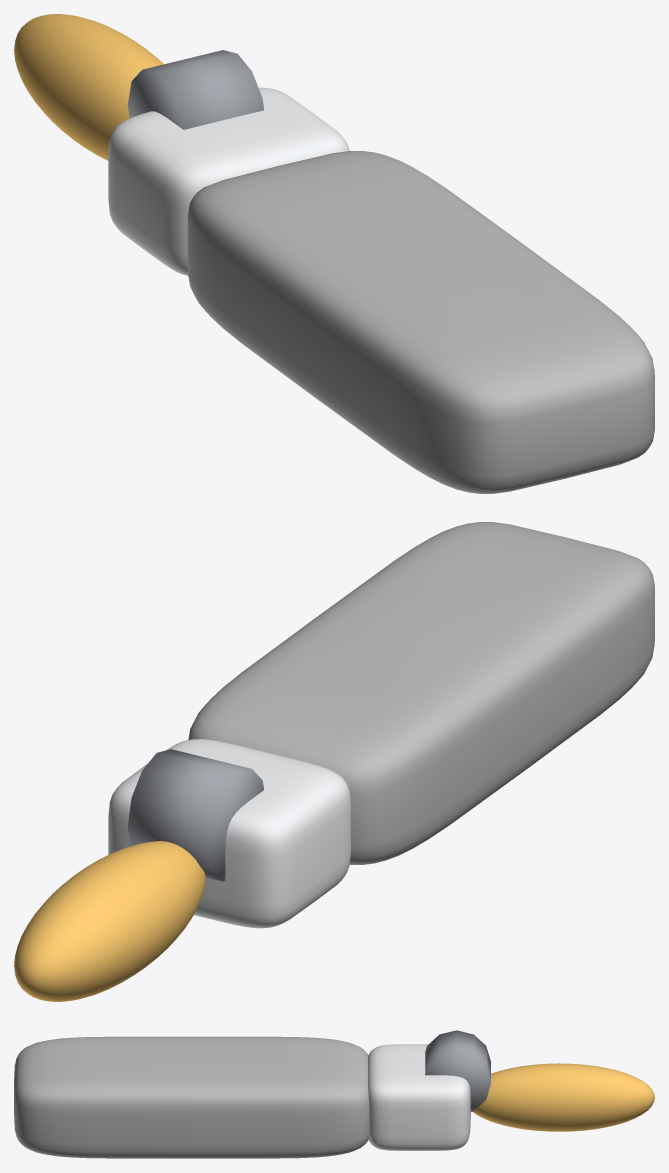
Rendered from lighter.glb.
The picture shows the model from 3 angles, top to bottom: view 1: azimuth 30°, elevation 25°; view 2: azimuth 150°, elevation 25°; view 3: azimuth 270°, elevation 25°; orthographic projection. The views are drawn at different scales.
Parts seen in each view (by area): view 1: Body, Hood, Flame, Wheel; view 2: Body, Hood, Flame, Wheel; view 3: Body, Flame, Hood, Wheel.
Part boxes in pixels (x1=…): Body: x1=187, y1=151, x2=654, y2=493; Hood: x1=108, y1=87, x2=349, y2=275; Flame: x1=14, y1=14, x2=163, y2=160; Wheel: x1=127, y1=50, x2=264, y2=129; Body: x1=188, y1=522, x2=654, y2=864; Hood: x1=108, y1=739, x2=350, y2=928; Flame: x1=14, y1=841, x2=205, y2=1001; Wheel: x1=127, y1=749, x2=264, y2=881; Body: x1=14, y1=1036, x2=369, y2=1158; Flame: x1=472, y1=1063, x2=654, y2=1131; Hood: x1=368, y1=1044, x2=470, y2=1150; Wheel: x1=425, y1=1030, x2=490, y2=1111.
Size of the model in its own units: 0.022 by 0.015 by 0.0937.
